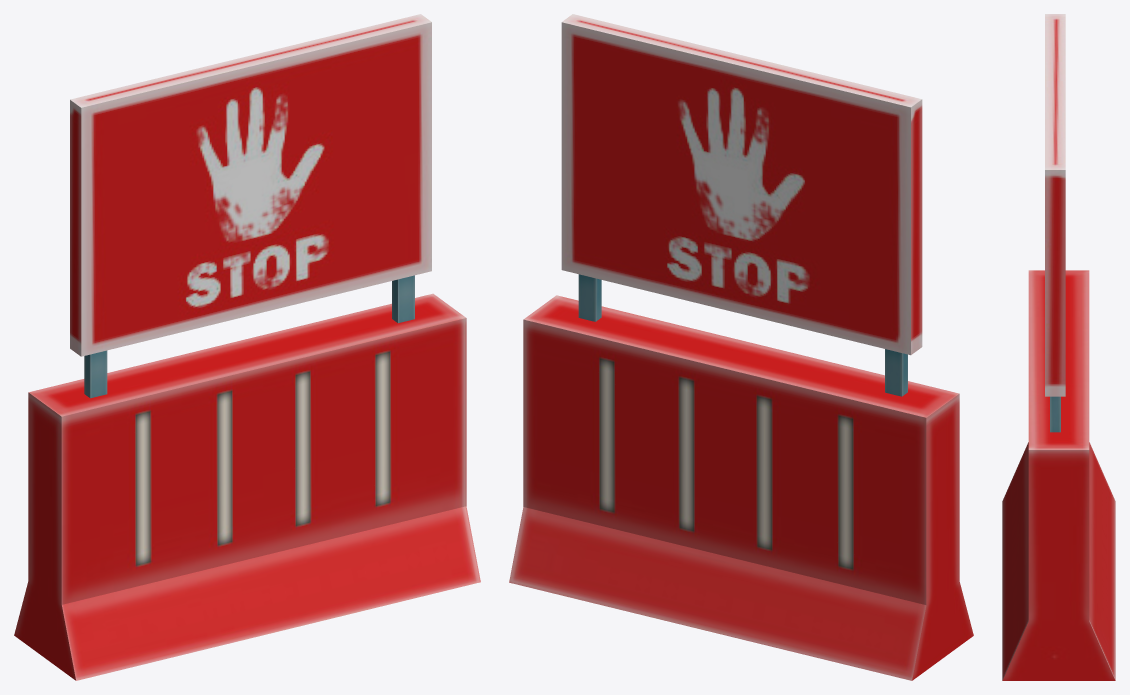
File: lane_closed.FBX
3 renders of one model, left to right at view 1: azimuth 30°, elevation 25°; view 2: azimuth 150°, elevation 25°; view 3: azimuth 270°, elevation 25°, orthographic. The views are drawn at different scales.
Parts seen in each view (by area): view 1: LANE CLOSE003; view 2: LANE CLOSE003; view 3: LANE CLOSE003.
Boxes of the visible parts, x1,y1,x2,y2 form: LANE CLOSE003: (14,14,480,680); LANE CLOSE003: (509,14,973,680); LANE CLOSE003: (1002,14,1115,680).
Bounding box in the file's own units: 162 × 210 × 43.
